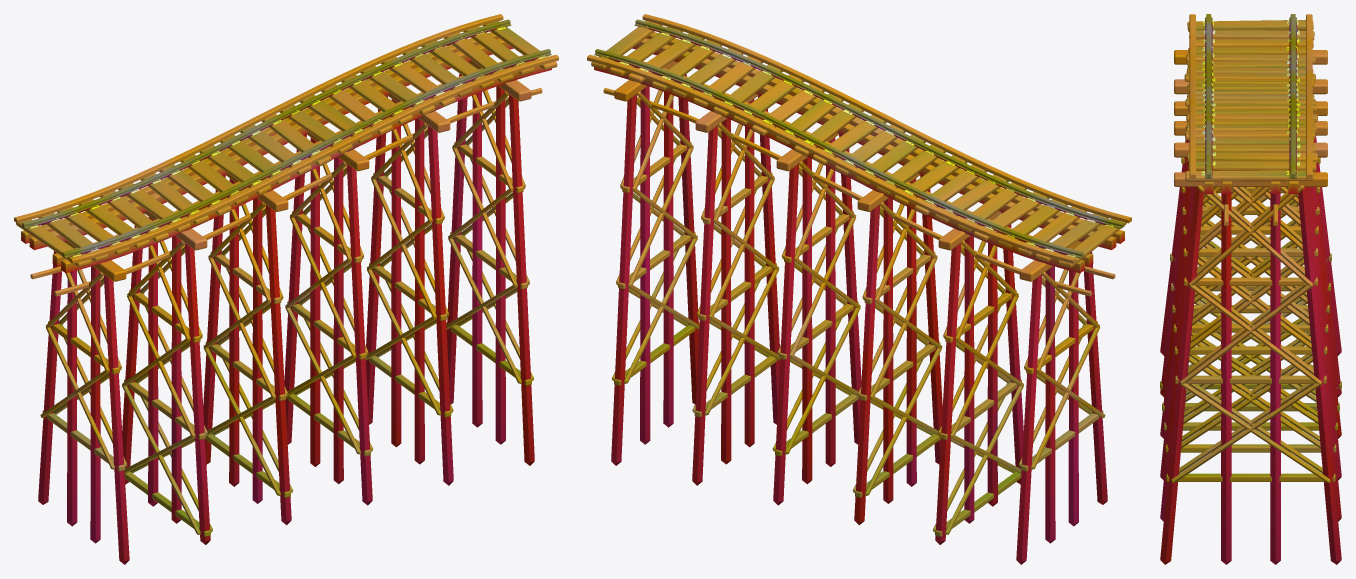
Rendered from Track_Ramp_Up_18m_Steep.fbx.
3 views of the same model, side by side, from view 1: azimuth 30°, elevation 25°; view 2: azimuth 150°, elevation 25°; view 3: azimuth 270°, elevation 25° (orthographic). The views are drawn at different scales.
Visible parts, largest first — view 1: Track_Ramp_Up_18m_Steep; view 2: Track_Ramp_Up_18m_Steep; view 3: Track_Ramp_Up_18m_Steep.
Boxes of the visible parts, x1,y1,x2,y2 form: Track_Ramp_Up_18m_Steep: (14,14,558,564); Track_Ramp_Up_18m_Steep: (587,14,1131,564); Track_Ramp_Up_18m_Steep: (1160,14,1341,564).
Size of the model in its own units: 18 by 13.85 by 5.55.
